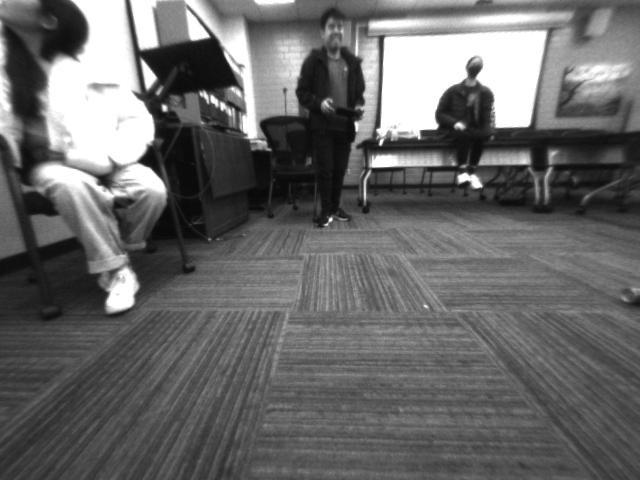can: (617, 281, 640, 316)
